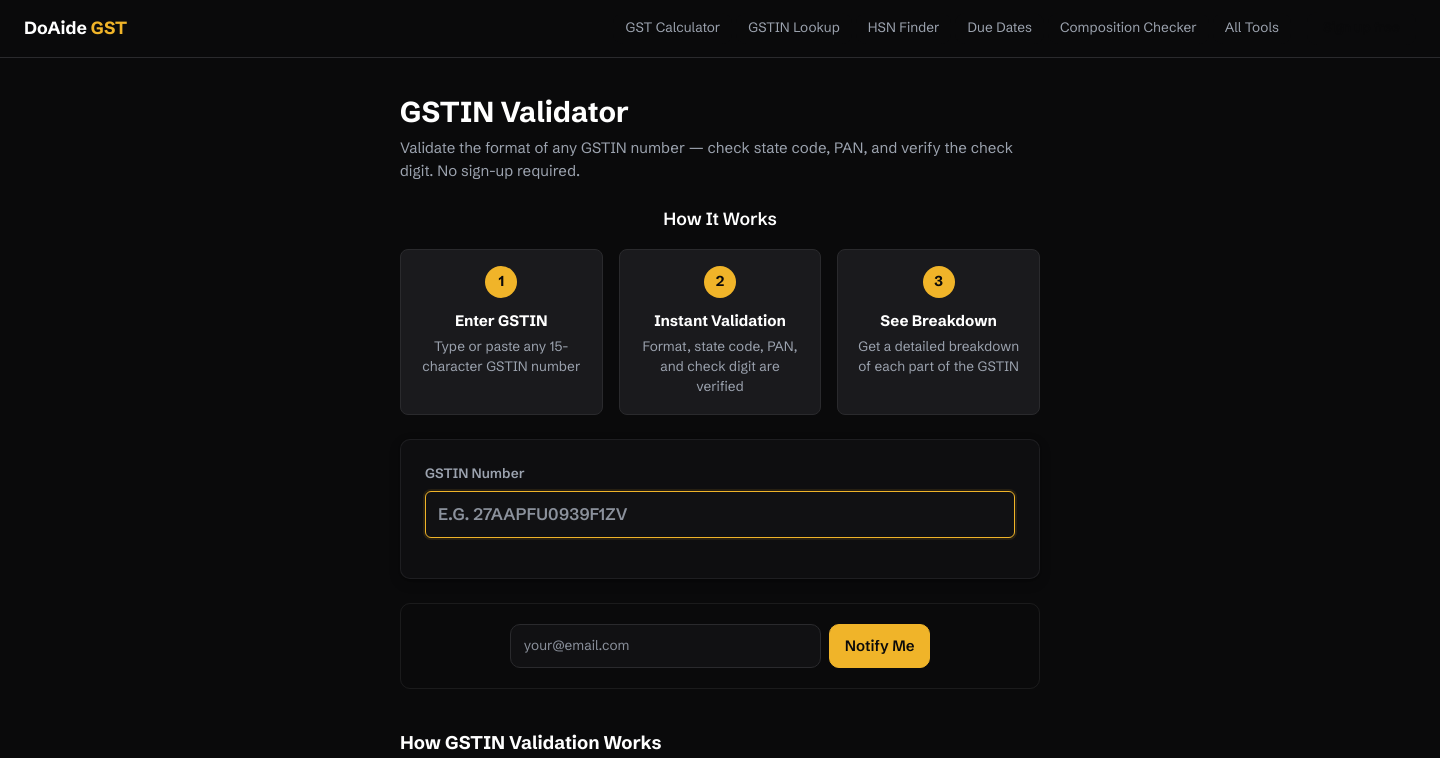
Test case: GstinValidatorPage › shows error for wrong check digit
This screenshot has width=1440, height=758.
Type "27AAPFU0939F1ZA" into the field with placeholder "e.g. 27AAPFU0939F1ZV".
click(720, 514); type("27AAPFU0939F1ZA")  # box [425,490,1015,538]
(page scrolled)
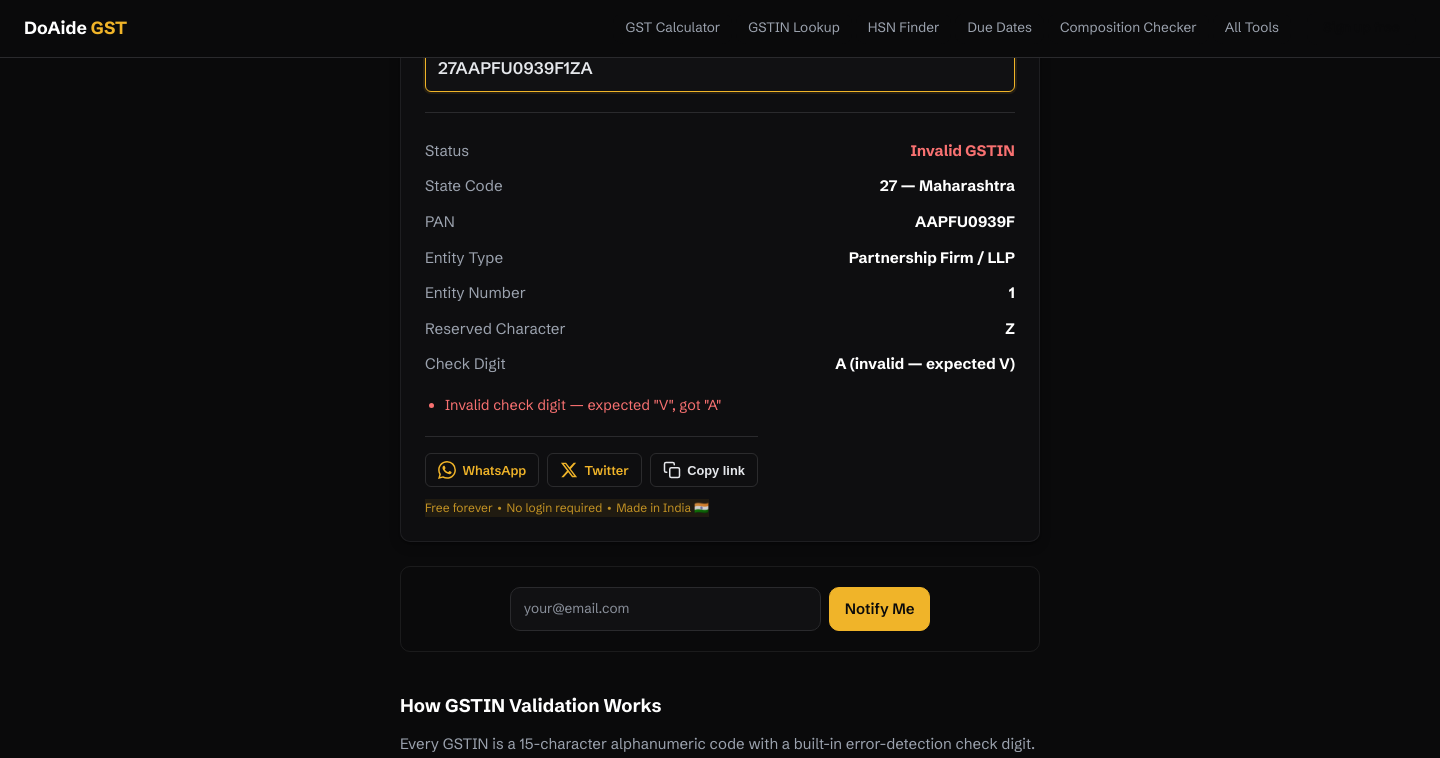
Now the text "Invalid GSTIN" is shown, box [910,140,1015,163]
Now the list item "Invalid check digit — expected \"V\", got \"A\"" is shown, box [445,396,722,414]
